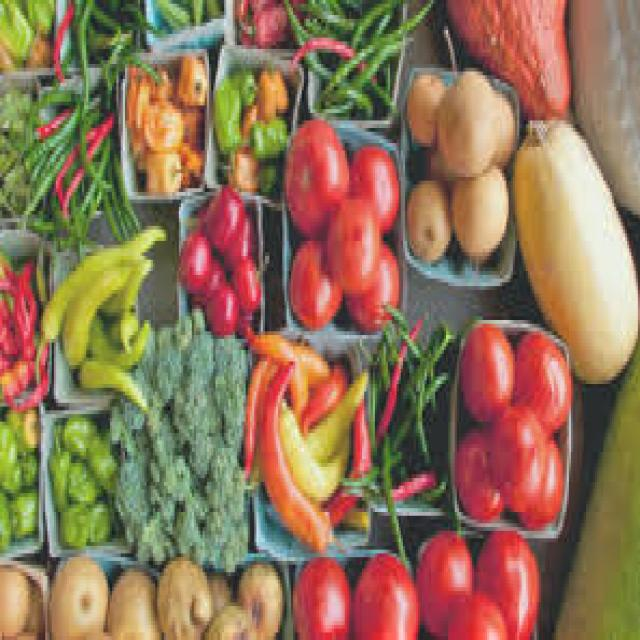organic waste: (108, 301, 250, 569), (511, 113, 638, 380), (32, 222, 166, 380), (254, 358, 343, 554), (562, 0, 638, 211), (442, 0, 566, 113), (241, 335, 330, 471), (56, 256, 147, 369), (327, 0, 431, 90), (282, 11, 373, 113), (282, 117, 347, 233), (276, 391, 342, 497), (26, 143, 123, 215), (474, 527, 537, 636), (487, 403, 547, 516), (17, 98, 112, 169), (373, 305, 418, 448), (414, 527, 472, 636), (349, 550, 416, 636), (321, 396, 366, 524), (438, 68, 492, 173), (513, 328, 569, 429), (457, 316, 511, 418), (246, 327, 306, 418), (47, 550, 110, 636), (304, 369, 364, 459), (338, 237, 396, 328), (375, 426, 409, 572), (451, 162, 506, 252), (155, 550, 211, 636), (328, 196, 377, 290), (515, 425, 560, 527), (0, 82, 34, 214), (75, 354, 149, 414), (287, 237, 338, 324), (291, 557, 347, 636), (104, 565, 162, 636), (455, 429, 500, 520), (347, 143, 396, 226), (86, 309, 151, 369), (73, 83, 110, 188), (284, 30, 370, 75), (99, 147, 140, 237), (392, 362, 446, 429), (235, 561, 282, 636), (54, 166, 101, 241), (408, 177, 450, 260), (300, 362, 342, 441), (351, 34, 414, 86), (202, 181, 242, 256), (353, 53, 401, 113), (5, 264, 32, 362), (405, 72, 442, 143), (446, 591, 504, 636), (213, 72, 240, 158), (235, 0, 289, 41), (73, 0, 94, 105), (0, 0, 34, 64), (84, 426, 119, 486), (140, 94, 179, 147), (0, 568, 32, 632), (97, 34, 129, 98), (175, 226, 209, 286), (43, 440, 71, 512), (187, 248, 222, 305), (224, 252, 257, 312), (381, 459, 431, 497), (23, 98, 78, 132), (412, 372, 431, 470), (246, 109, 284, 158), (200, 599, 250, 636), (58, 414, 99, 459), (140, 143, 181, 188), (0, 361, 45, 402), (203, 275, 237, 327), (65, 456, 101, 504), (489, 86, 511, 162), (222, 143, 256, 192), (110, 0, 157, 34), (420, 316, 450, 369), (77, 19, 123, 53), (174, 52, 204, 102), (258, 60, 284, 117), (0, 417, 19, 493), (222, 211, 254, 256), (6, 486, 36, 534), (125, 64, 149, 124), (58, 497, 88, 542), (52, 0, 69, 79), (416, 139, 446, 181), (90, 0, 123, 38), (336, 463, 382, 489), (392, 323, 425, 358), (120, 256, 148, 297), (349, 0, 392, 26), (202, 568, 228, 610), (312, 87, 358, 109), (86, 497, 110, 538), (179, 139, 202, 181), (228, 68, 254, 105), (153, 0, 185, 30), (24, 0, 52, 34), (179, 106, 200, 150), (382, 297, 405, 335), (0, 489, 13, 554), (116, 309, 138, 346), (23, 30, 50, 60), (0, 312, 17, 358), (15, 407, 35, 444), (0, 245, 11, 312), (15, 448, 35, 482), (34, 86, 90, 98), (130, 128, 146, 169), (233, 301, 250, 339), (239, 98, 254, 139), (424, 470, 444, 500), (341, 505, 366, 527), (256, 162, 276, 188), (147, 68, 170, 90), (185, 0, 205, 19), (202, 0, 217, 11)
